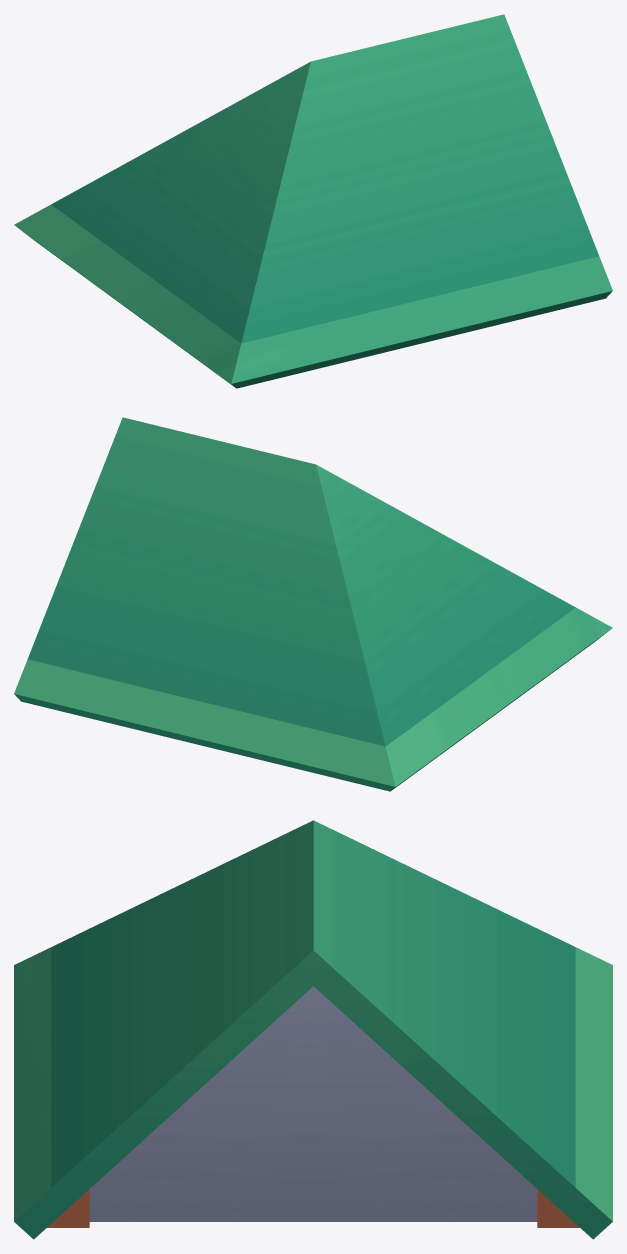
Rendered from roofGableEnd.fbx.
3 renders of one model, top to bottom at view 1: azimuth 30°, elevation 25°; view 2: azimuth 150°, elevation 25°; view 3: azimuth 270°, elevation 25°, orthographic. The views are drawn at different scales.
Parts seen in each view (by area): view 1: roofGableEnd; view 2: roofGableEnd; view 3: roofGableEnd.
Boxes of the visible parts, <box> form: roofGableEnd: <box>14,14,612,388</box>; roofGableEnd: <box>14,417,612,791</box>; roofGableEnd: <box>14,820,612,1239</box>.
Size of the model in its own units: 1.09 by 1.07 by 0.5707.
